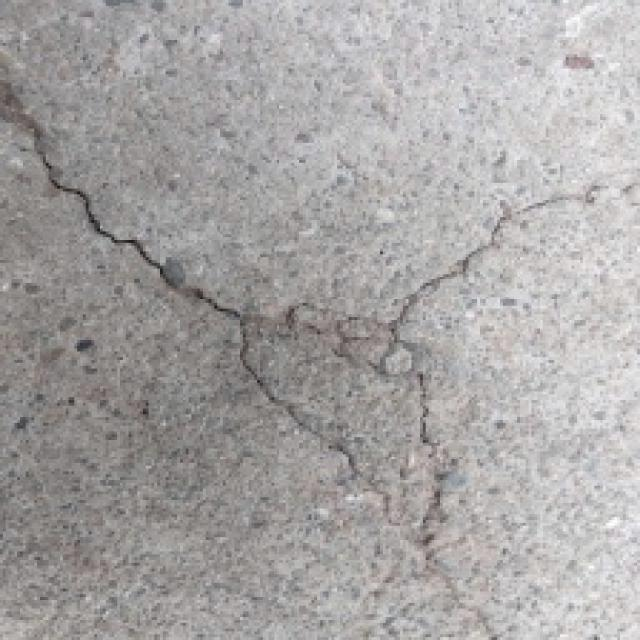SurfaceCrack: (0, 74, 616, 576)
